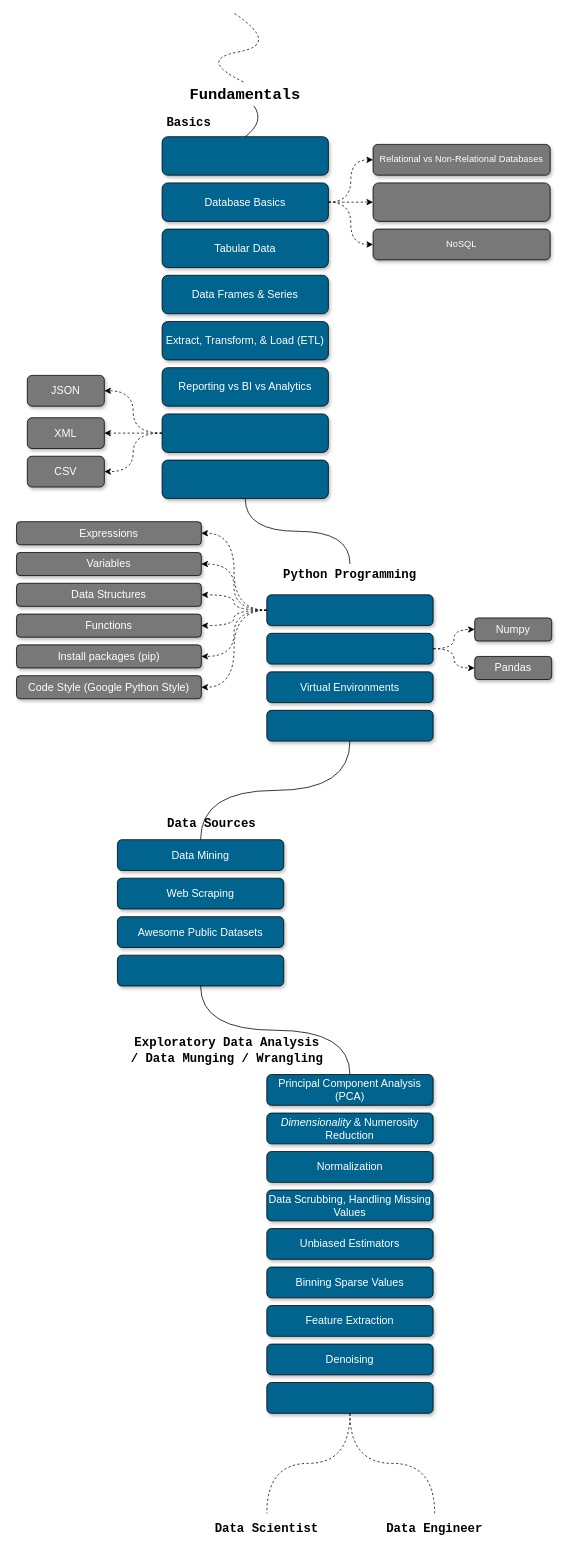
This 570x1558 diagram has some shape labels left out. The shapes that lost their labels are listed below. From the top down, each one's centre as x and y in pixels, then its label:
At pixel 245 157: "Matrices & Linear Algebra Fundamentals".
At pixel 462 203: "SQL + Joins (Inner, Outer, Cross, Theta Join)".
At pixel 245 434: "Data Formats".
At pixel 245 480: "Regular Expressions (RegEx)".
At pixel 350 611: "Python Basics".
At pixel 350 649: "Important Libraries".
At pixel 350 726: "Jupyter Notebooks / Lab".
At pixel 201 971: "Kaggle".
At pixel 350 1399: "Sampling".
